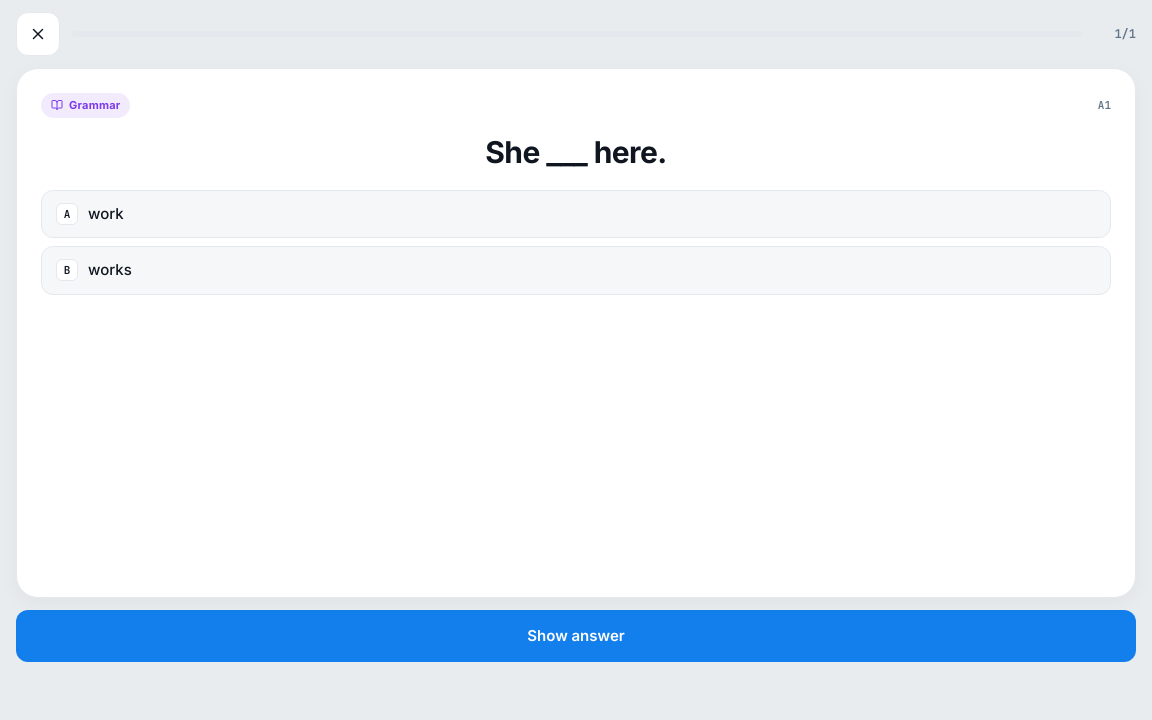
Scenario: Review › correct left swipe submits works
Click the text "works" at (110, 270), box x1=88 y1=260 x2=132 y2=279
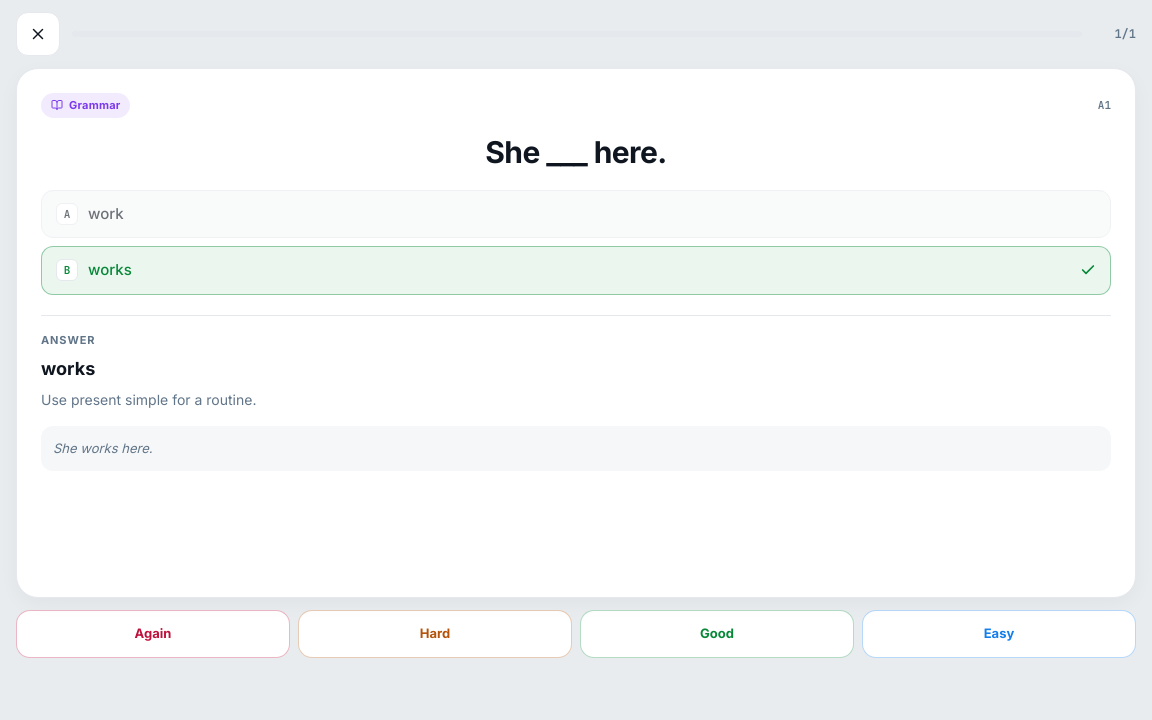
Check: the text named "Correct answer" is shown, box x1=41 y1=358 x2=95 y2=379
Press the mouse on the element with test id "review-card" at (576, 333), box x1=16 y1=68 x2=1136 y2=598
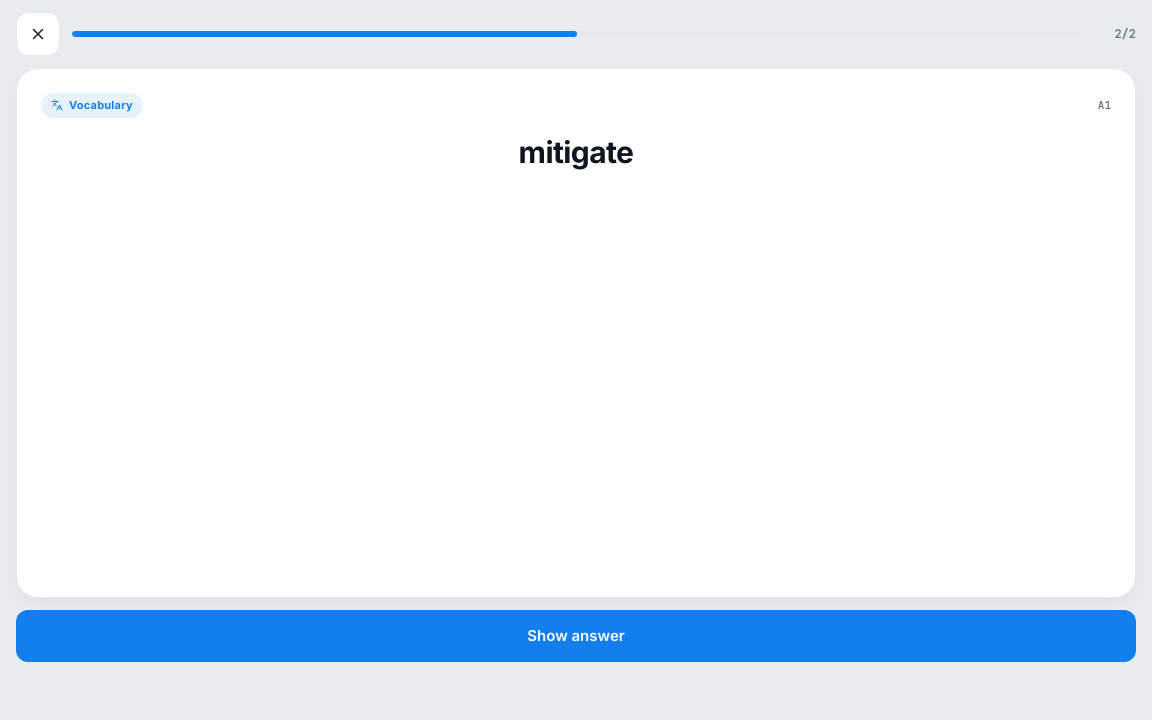
Check: the text "mitigate" is shown, box x1=519 y1=134 x2=633 y2=170
